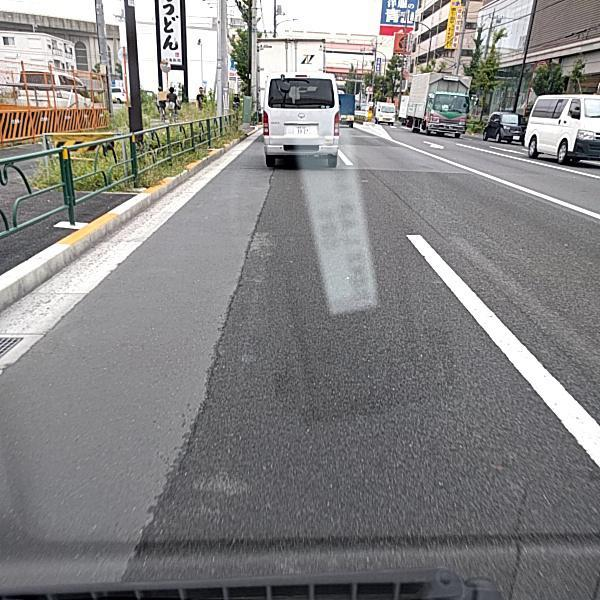Sambungan: (0, 172, 273, 600)
